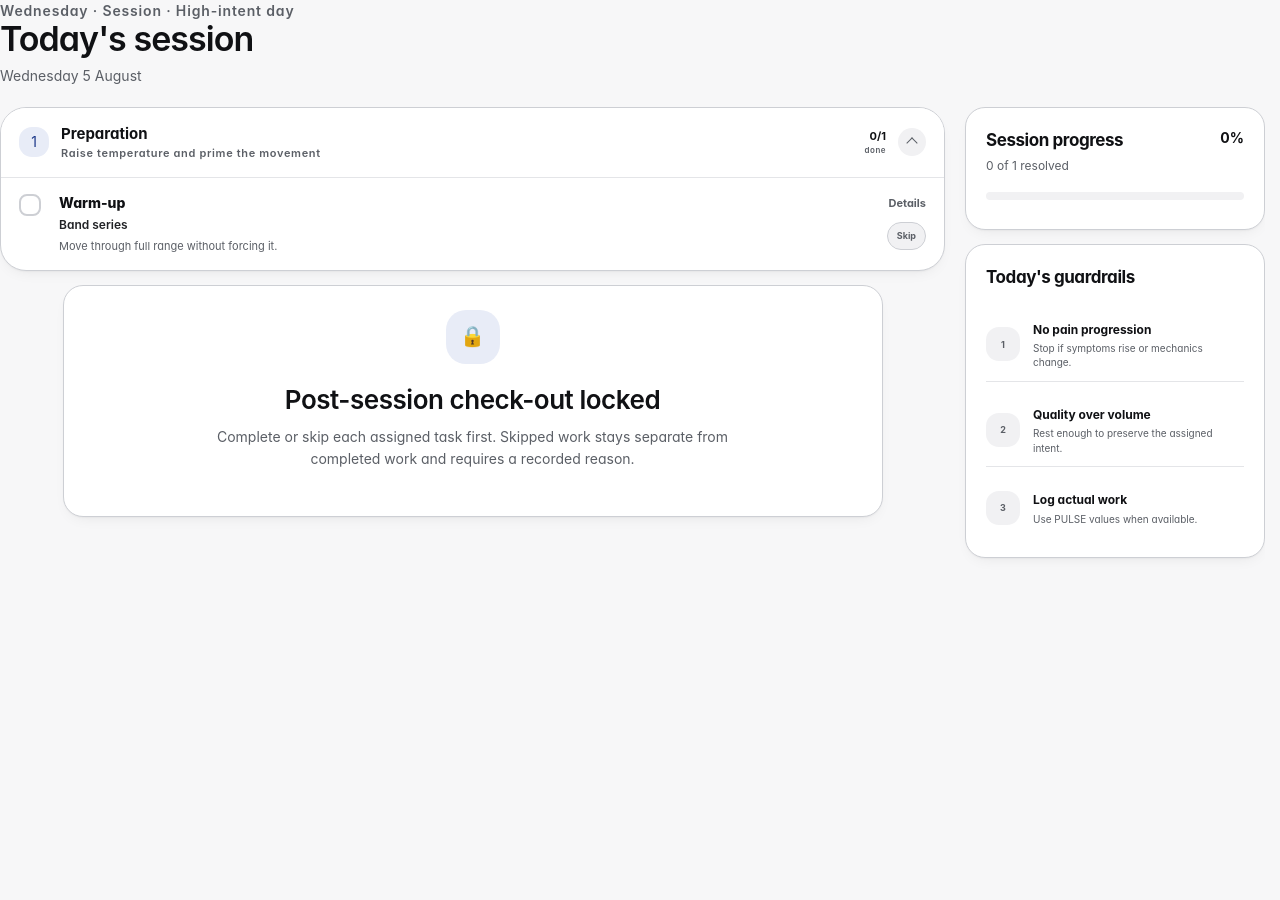
DailyPlan — skipping › opens the detail panel for a task
Click the button "Details" at (907, 204), box x1=888 y1=193 x2=926 y2=215
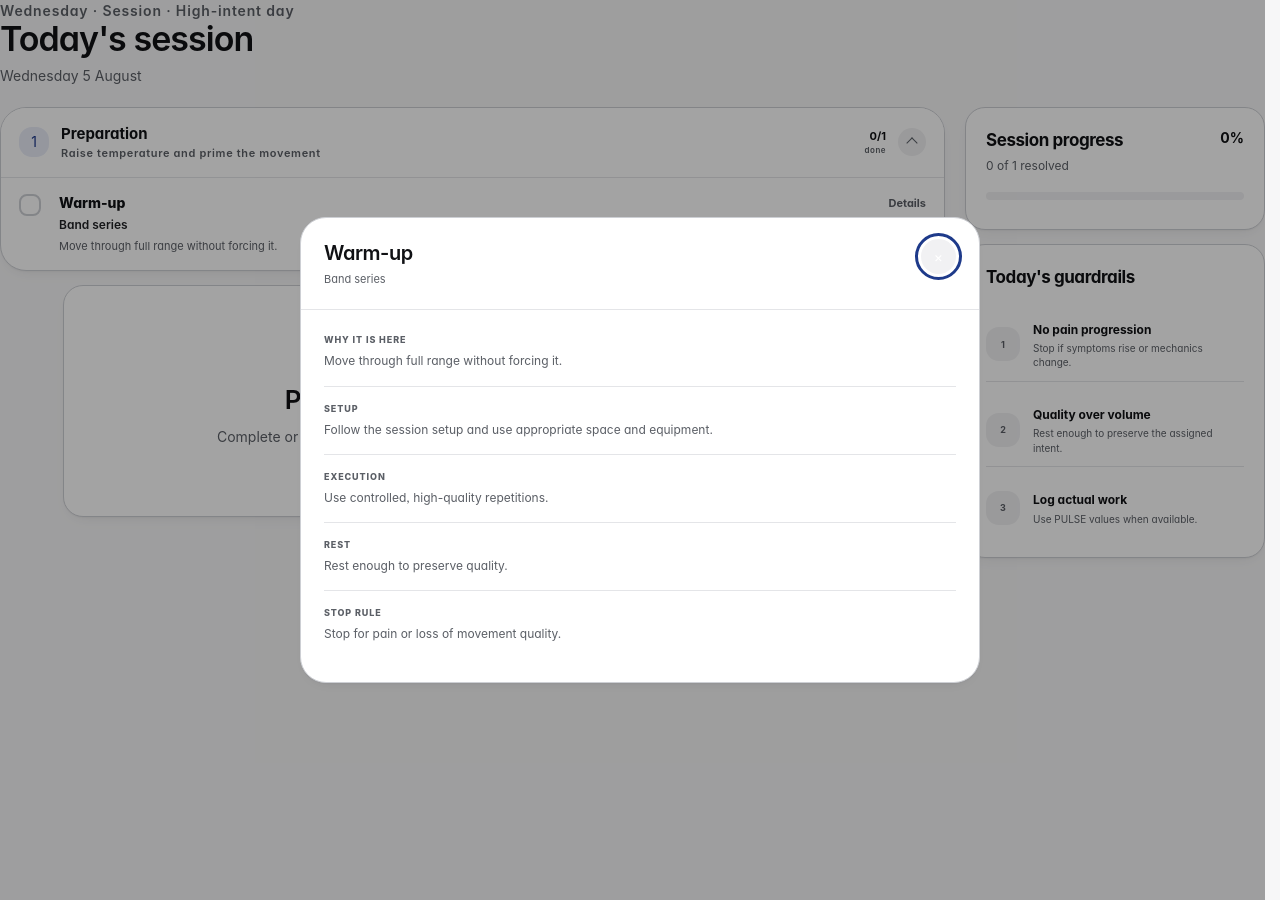
Check: the dialog shows "Warm-up", box x1=324 y1=241 x2=413 y2=265
Check: the dialog shows "Why it is here", box x1=324 y1=334 x2=406 y2=345
Check: the dialog shows "Stop rule", box x1=324 y1=607 x2=382 y2=618
